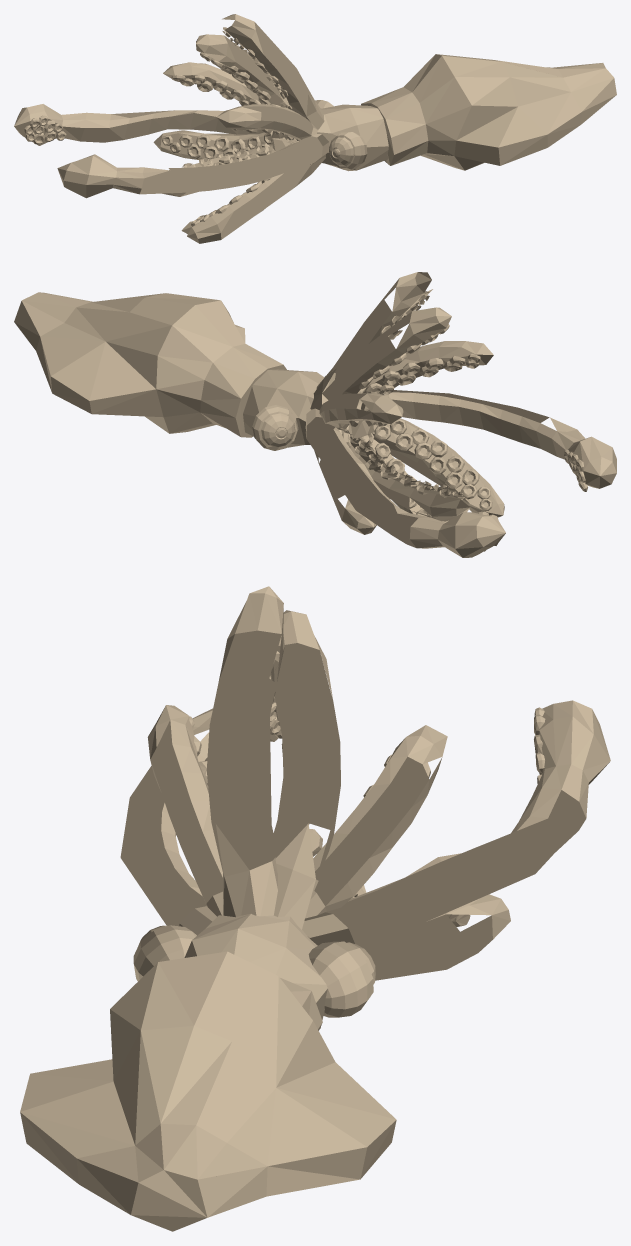
File: wenyao.glb
3 renders of one model, top to bottom at view 1: azimuth 30°, elevation 25°; view 2: azimuth 150°, elevation 25°; view 3: azimuth 270°, elevation 25°, orthographic. The views are drawn at different scales.
Parts seen in each view (by area): view 1: Node; view 2: Node; view 3: Node.
Boxes of the visible parts, box(x1,y1,x2,y2) form: Node: box(14, 14, 616, 243); Node: box(14, 272, 616, 557); Node: box(20, 586, 610, 1231).
Bounding box in the file's own units: 2.16 × 0.8575 × 1.06.
